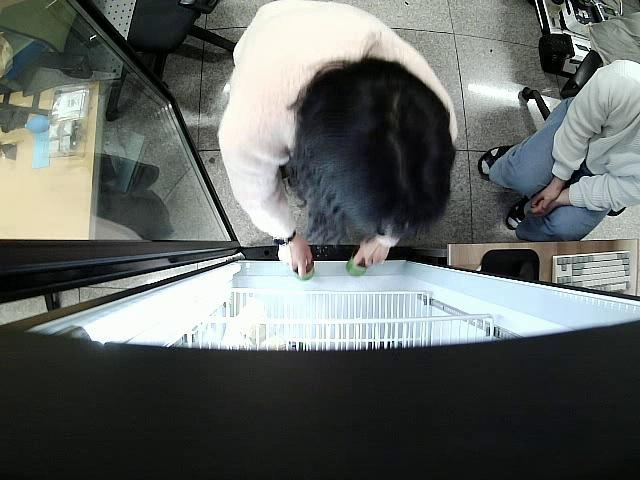19_17cha: (346, 253, 370, 278), (292, 256, 314, 282)
